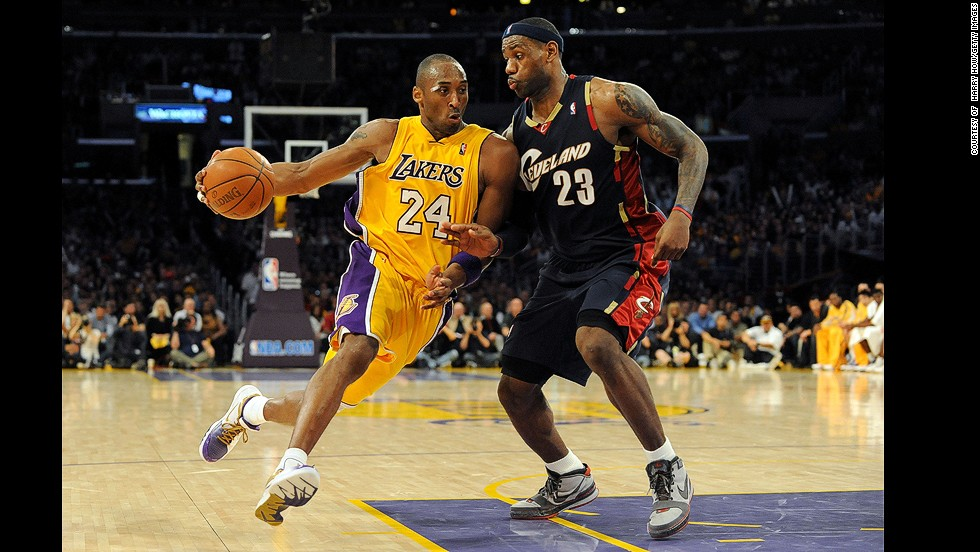Basketball: (202, 146, 277, 223)
